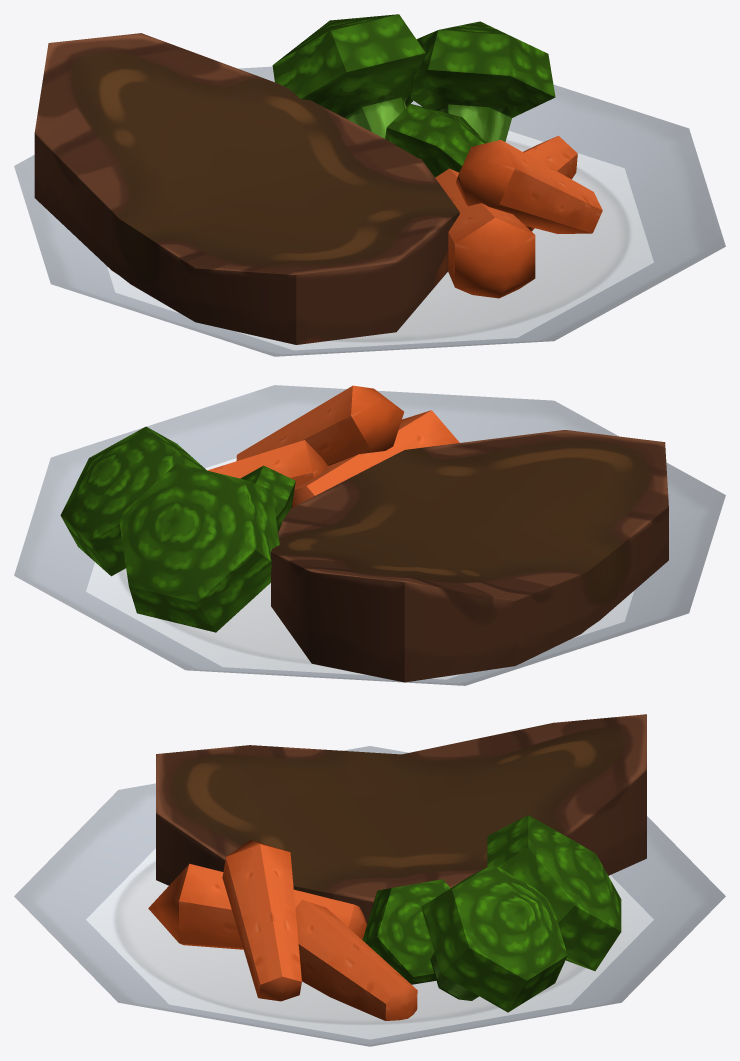
The model's file is steak.FBX.
The picture shows the model from 3 angles, top to bottom: view 1: azimuth 30°, elevation 25°; view 2: azimuth 150°, elevation 25°; view 3: azimuth 270°, elevation 25°; orthographic projection. The views are drawn at different scales.
Visible parts, largest first — view 1: steak; view 2: steak; view 3: steak.
Part boxes in pixels (x1=…): steak: x1=14, y1=14, x2=725, y2=356; steak: x1=14, y1=385, x2=725, y2=685; steak: x1=14, y1=714, x2=725, y2=1046.
Bounding box in the file's own units: 11.05 × 2.67 × 11.05.
